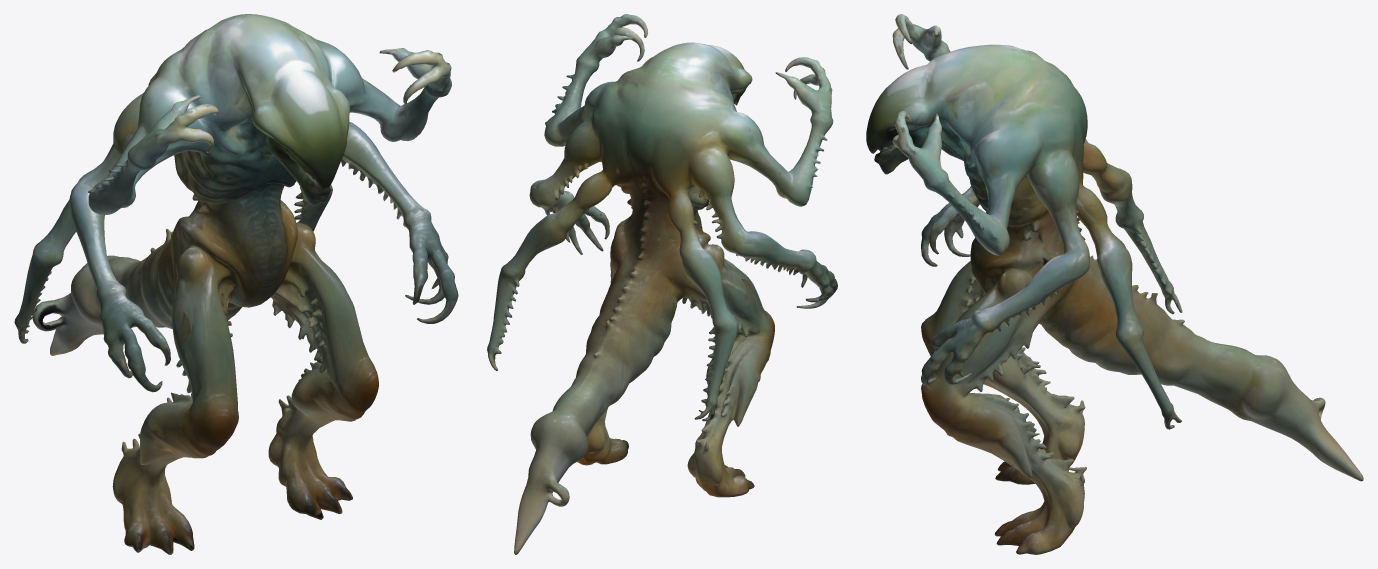
The model's file is Shal'Rah Figure.glb.
The picture shows the model from 3 angles, left to right: view 1: azimuth 30°, elevation 25°; view 2: azimuth 150°, elevation 25°; view 3: azimuth 270°, elevation 25°; orthographic projection. The views are drawn at different scales.
Size of the model in its own units: 1.39 by 2 by 1.96.
Materials: 1 (1 with a texture image).
